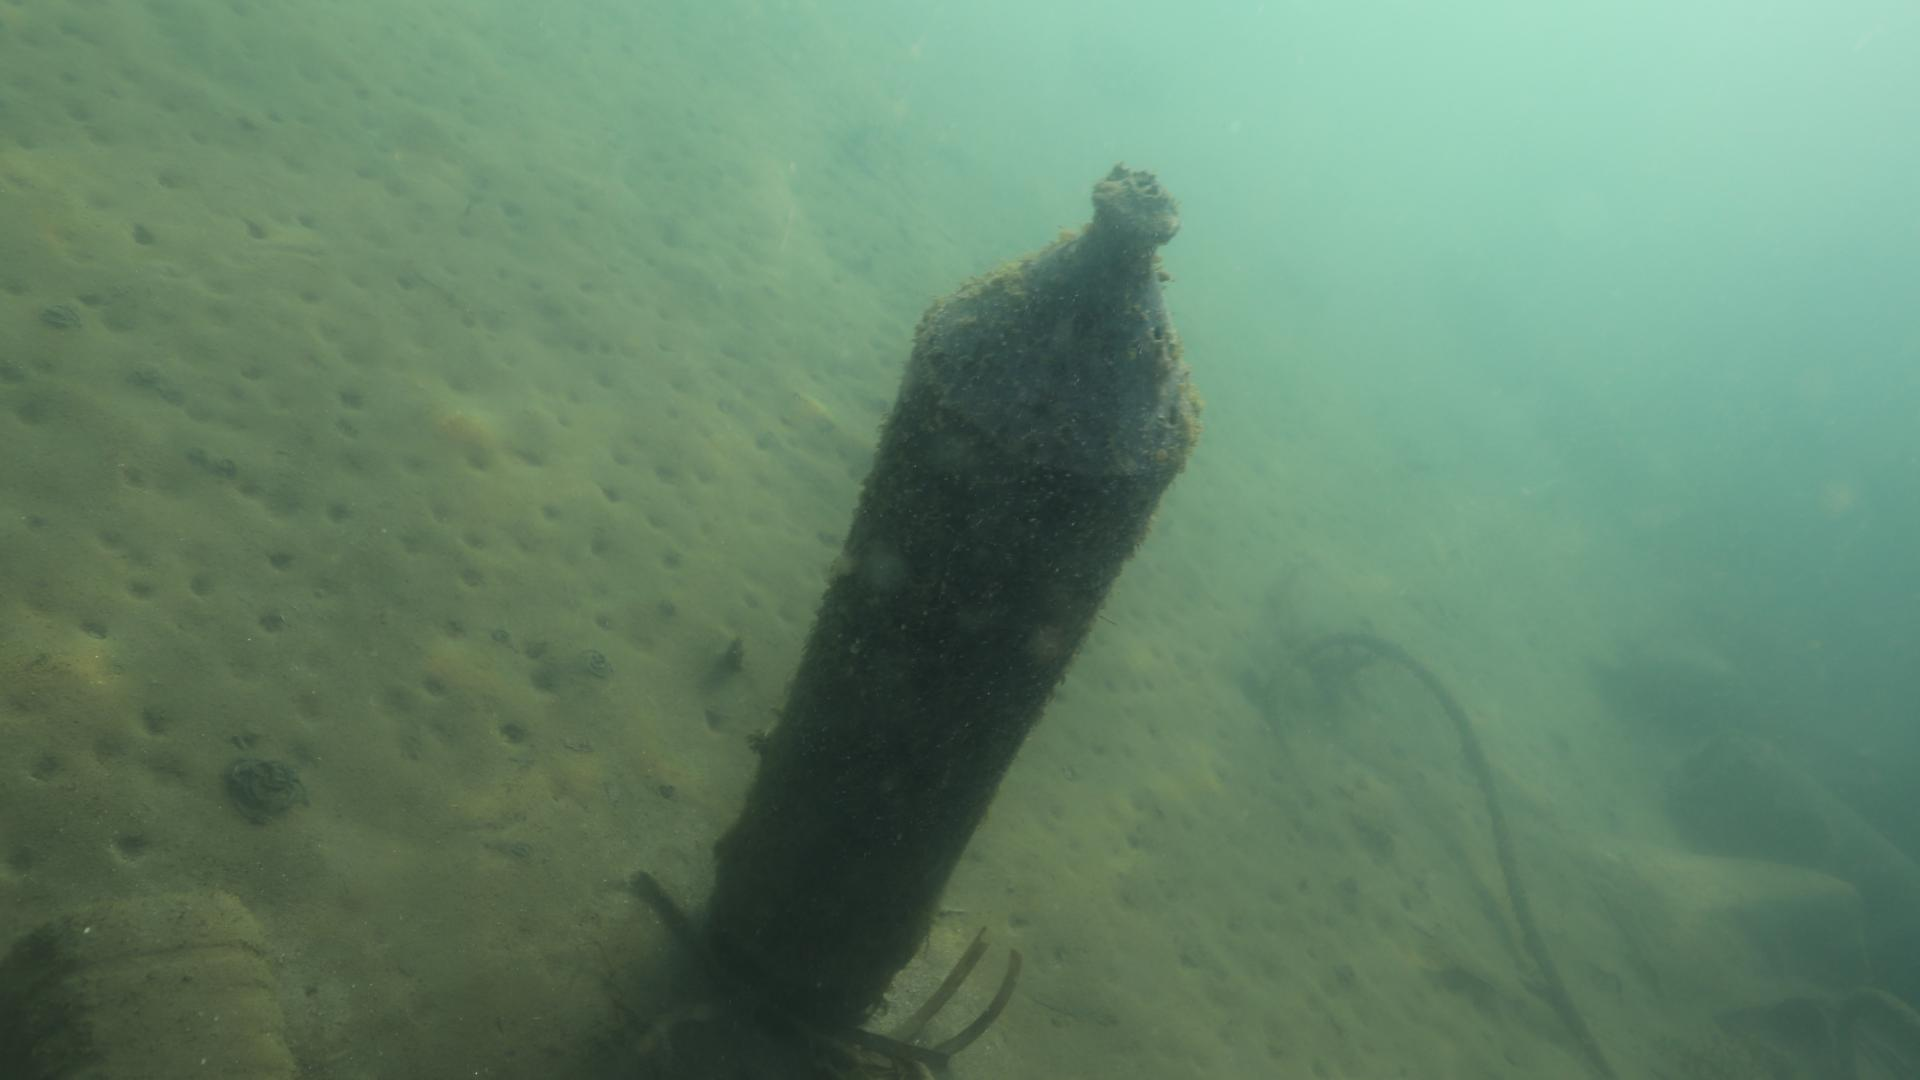eel fish trap: (696, 167, 1199, 1043)
